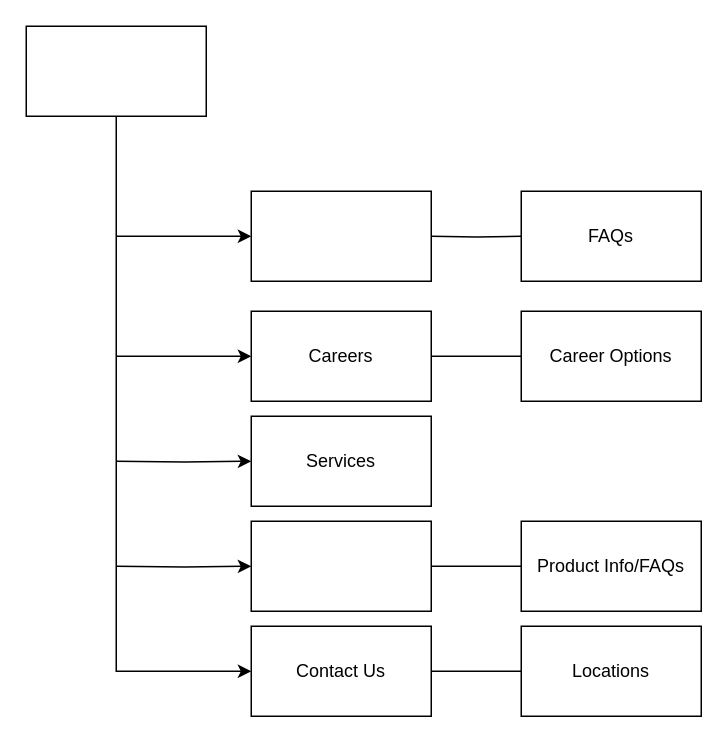
Some shapes in this 728 by 743 pixel diagram are drawn without their labels. Each missing label, with the centre of its shape:
About Us: [340,235]
Home Page: [115,70]
Shop: [340,565]
